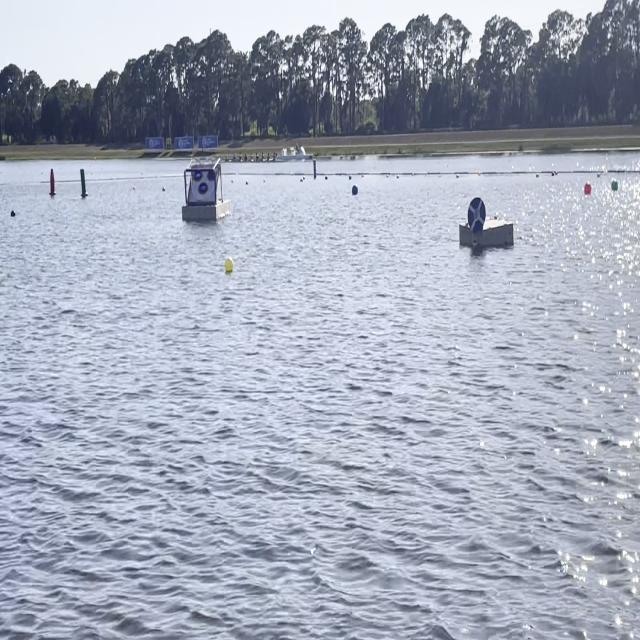buoy: (611, 174, 619, 194), (226, 258, 233, 279), (584, 179, 592, 195), (352, 181, 358, 197)
